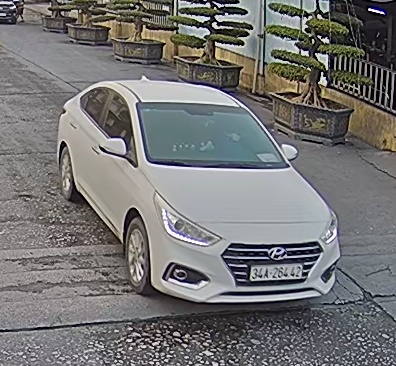vehicle plate: (247, 258, 308, 282)
